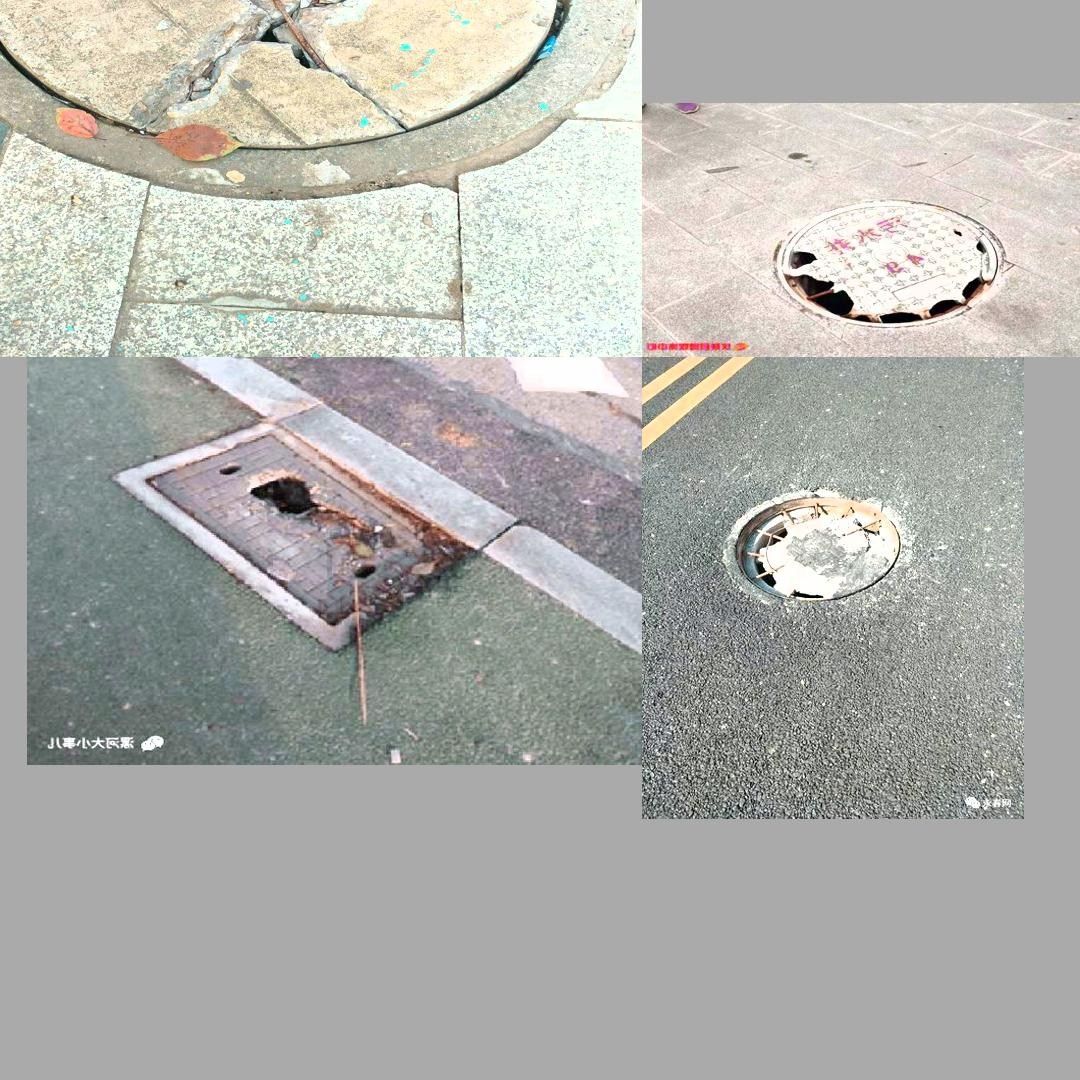broke: (0, 0, 636, 204), (89, 405, 482, 650), (762, 192, 1015, 333), (718, 478, 911, 618)
